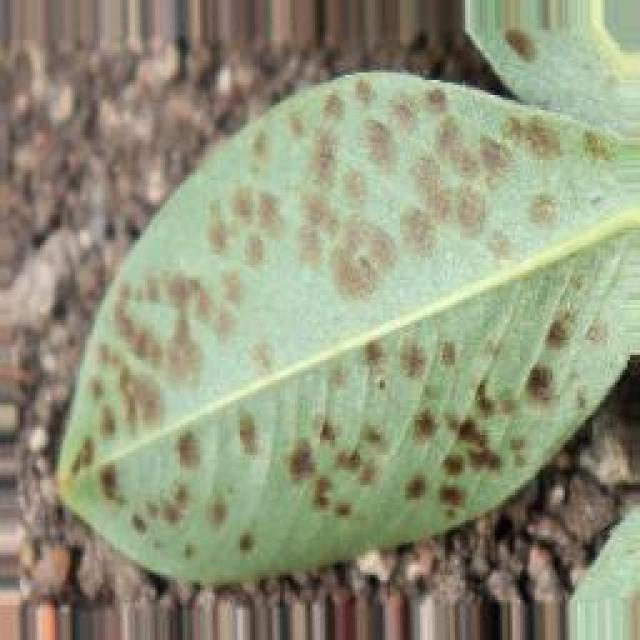Whitefly: (83, 70, 625, 596)
